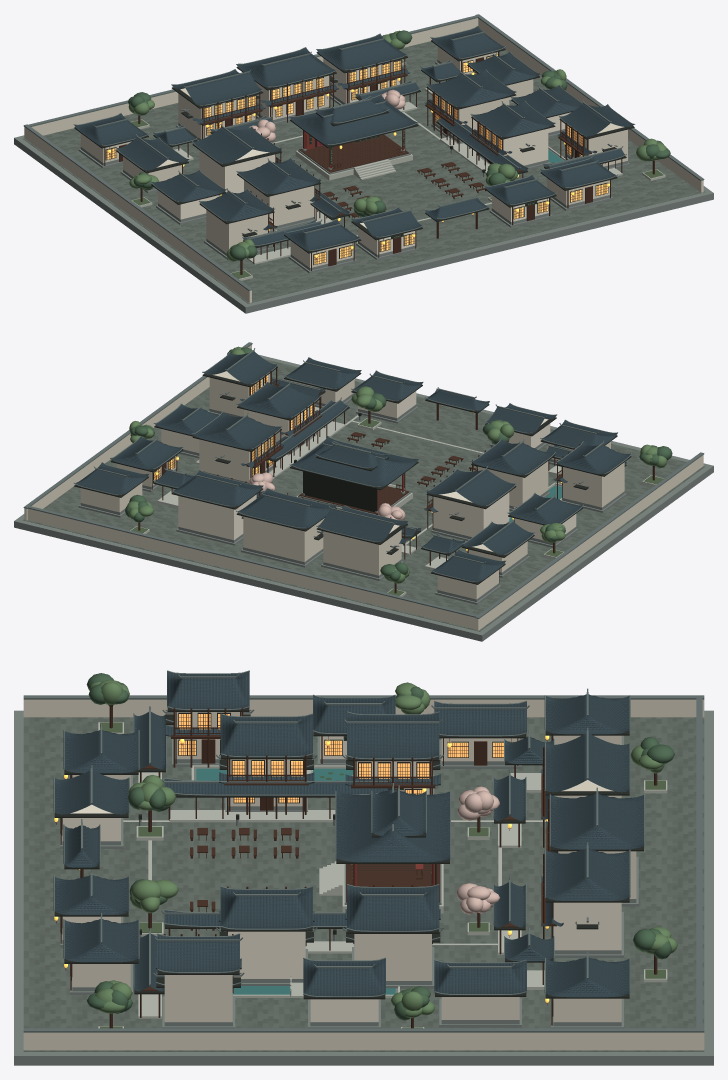
File: yueyun-opera-village.glb
3 views of the same model, one above another, from view 1: azimuth 30°, elevation 25°; view 2: azimuth 150°, elevation 25°; view 3: azimuth 270°, elevation 25° (orthographic). The views are drawn at different scales.
Parts seen in each view (by area): view 1: Yueyun_Jiangnan_Opera_Village / Courtyard stone, Yueyun_Jiangnan_Opera_Village / Bluestone, Yueyun_Jiangnan_Opera_Village / Limewash · warm ivory (×3), Yueyun_Jiangnan_Opera_Village / Glazed ridge caps (×3), Central_Yue_Opera_Stage / Curved_tiled_roof, 越韵传习所 / Curved_tiled_roof, Central_Yue_Opera_Stage / Oiled chestnut, 望月楼 / Curved_tiled_roof, 听雨楼 / Curved_tiled_roof, 百戏藏馆 / Curved_tiled_roof, 戏曲书院 / Curved_tiled_roof, 春和茶馆 / Curved_tiled_roof (+34 smaller); view 2: Yueyun_Jiangnan_Opera_Village / Courtyard stone, Yueyun_Jiangnan_Opera_Village / Limewash · warm ivory (×3), Yueyun_Jiangnan_Opera_Village / Bluestone, Yueyun_Jiangnan_Opera_Village / Glazed ridge caps (×3), 越韵传习所 / Limewash · warm ivory, 戏曲书院 / Limewash · warm ivory, Central_Yue_Opera_Stage / Curved_tiled_roof, 听雨楼 / Limewash · chalk, 百戏藏馆 / Limewash · chalk, 越韵传习所 / Curved_tiled_roof, 南窗小筑 / Limewash · warm ivory, 望月楼 / Curved_tiled_roof (+34 smaller); view 3: Yueyun_Jiangnan_Opera_Village / Courtyard stone, Yueyun_Jiangnan_Opera_Village / Limewash · warm ivory (×2), Yueyun_Jiangnan_Opera_Village / Bluestone, Covered_walkway / Curved_tiled_roof (×6), Yueyun_Jiangnan_Opera_Village / Glazed ridge caps (×3), Central_Yue_Opera_Stage / Curved_tiled_roof, 越韵传习所 / Curved_tiled_roof, 听雨楼 / Curved_tiled_roof (×2), 百戏藏馆 / Curved_tiled_roof, 戏曲书院 / Curved_tiled_roof, 望月楼 / Curved_tiled_roof, 春和茶馆 / Curved_tiled_roof (+31 smaller).
Part boxes in pixels (left/top/right/bottom): Yueyun_Jiangnan_Opera_Village / Courtyard stone: left=23, top=41, right=704, bottom=303; Yueyun_Jiangnan_Opera_Village / Bluestone: left=14, top=135, right=713, bottom=313; Yueyun_Jiangnan_Opera_Village / Limewash · warm ivory (×3): left=24, top=18, right=703, bottom=302; Yueyun_Jiangnan_Opera_Village / Glazed ridge caps (×3): left=23, top=14, right=704, bottom=290; Central_Yue_Opera_Stage / Curved_tiled_roof: left=290, top=95, right=417, bottom=144; 越韵传习所 / Curved_tiled_roof: left=237, top=48, right=335, bottom=86; Central_Yue_Opera_Stage / Oiled chestnut: left=299, top=134, right=409, bottom=172; 望月楼 / Curved_tiled_roof: left=427, top=70, right=515, bottom=106; 听雨楼 / Curved_tiled_roof: left=193, top=127, right=281, bottom=163; 百戏藏馆 / Curved_tiled_roof: left=317, top=34, right=406, bottom=69; 戏曲书院 / Curved_tiled_roof: left=172, top=69, right=261, bottom=105; 春和茶馆 / Curved_tiled_roof: left=237, top=158, right=320, bottom=193; Yueyun_Jiangnan_Opera_Village / Courtyard stone: left=23, top=359, right=704, bottom=631; Yueyun_Jiangnan_Opera_Village / Limewash · warm ivory (×3): left=24, top=345, right=703, bottom=630; Yueyun_Jiangnan_Opera_Village / Bluestone: left=14, top=354, right=713, bottom=641; Yueyun_Jiangnan_Opera_Village / Glazed ridge caps (×3): left=23, top=342, right=704, bottom=618; 越韵传习所 / Limewash · warm ivory: left=243, top=516, right=324, bottom=561; 戏曲书院 / Limewash · warm ivory: left=323, top=524, right=401, bottom=575; Central_Yue_Opera_Stage / Curved_tiled_roof: left=291, top=437, right=418, bottom=486; 听雨楼 / Limewash · chalk: left=433, top=491, right=509, bottom=537; 百戏藏馆 / Limewash · chalk: left=178, top=494, right=256, bottom=540; 越韵传习所 / Curved_tiled_roof: left=238, top=489, right=336, bottom=528; 南窗小筑 / Limewash · warm ivory: left=563, top=462, right=624, bottom=507; 望月楼 / Curved_tiled_roof: left=193, top=412, right=281, bottom=448; Yueyun_Jiangnan_Opera_Village / Courtyard stone: left=23, top=717, right=704, bottom=1051; Yueyun_Jiangnan_Opera_Village / Limewash · warm ivory (×2): left=23, top=699, right=704, bottom=1050; Yueyun_Jiangnan_Opera_Village / Bluestone: left=14, top=710, right=713, bottom=1065; Covered_walkway / Curved_tiled_roof (×6): left=134, top=712, right=525, bottom=991; Yueyun_Jiangnan_Opera_Village / Glazed ridge caps (×3): left=23, top=695, right=704, bottom=1032; Central_Yue_Opera_Stage / Curved_tiled_roof: left=336, top=789, right=449, bottom=862; 越韵传习所 / Curved_tiled_roof: left=550, top=793, right=643, bottom=849; 听雨楼 / Curved_tiled_roof (×2): left=345, top=712, right=440, bottom=786; 百戏藏馆 / Curved_tiled_roof: left=546, top=848, right=629, bottom=900; 戏曲书院 / Curved_tiled_roof: left=546, top=733, right=629, bottom=792; 望月楼 / Curved_tiled_roof: left=347, top=885, right=439, bottom=930; 春和茶馆 / Curved_tiled_roof: left=220, top=714, right=312, bottom=756.
Size of the model in its own units: 84 by 10.58 by 72.
33 materials, 16 textured.
